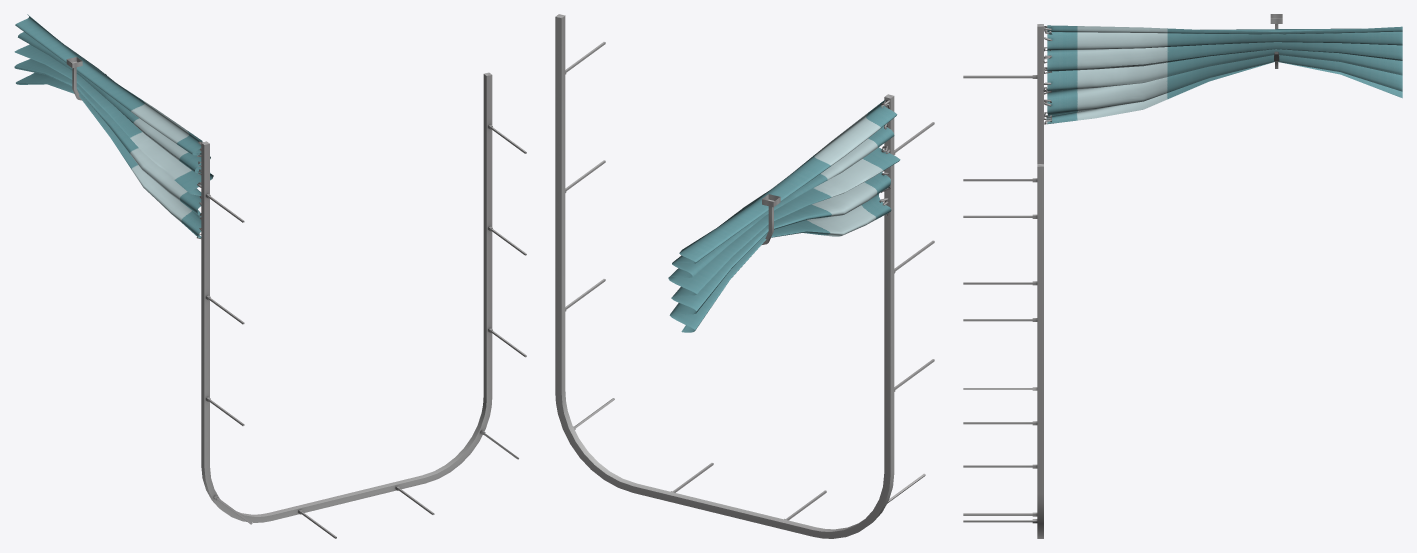
The model's file is aws_robomaker_hospital_curtain_open_01_collision.dae.
3 views of the same model, side by side, from view 1: azimuth 30°, elevation 25°; view 2: azimuth 150°, elevation 25°; view 3: azimuth 270°, elevation 25° (orthographic). The views are drawn at different scales.
Parts seen in each view (by area): view 1: aws_robomaker_hospital_curtain_open_01_low, aws_robomaker_hospital_curtainrail_01_low; view 2: aws_robomaker_hospital_curtain_open_01_low, aws_robomaker_hospital_curtainrail_01_low; view 3: aws_robomaker_hospital_curtain_open_01_low, aws_robomaker_hospital_curtainrail_01_low.
Part boxes in pixels (bbox=[...]): aws_robomaker_hospital_curtain_open_01_low: bbox=[14, 14, 213, 238]; aws_robomaker_hospital_curtainrail_01_low: bbox=[66, 57, 526, 538]; aws_robomaker_hospital_curtain_open_01_low: bbox=[668, 99, 900, 332]; aws_robomaker_hospital_curtainrail_01_low: bbox=[555, 14, 934, 538]; aws_robomaker_hospital_curtain_open_01_low: bbox=[1043, 25, 1402, 124]; aws_robomaker_hospital_curtainrail_01_low: bbox=[963, 14, 1282, 538].
Size of the model in its own units: 238 by 293 by 292.
Materials: 2 (2 with a texture image).
